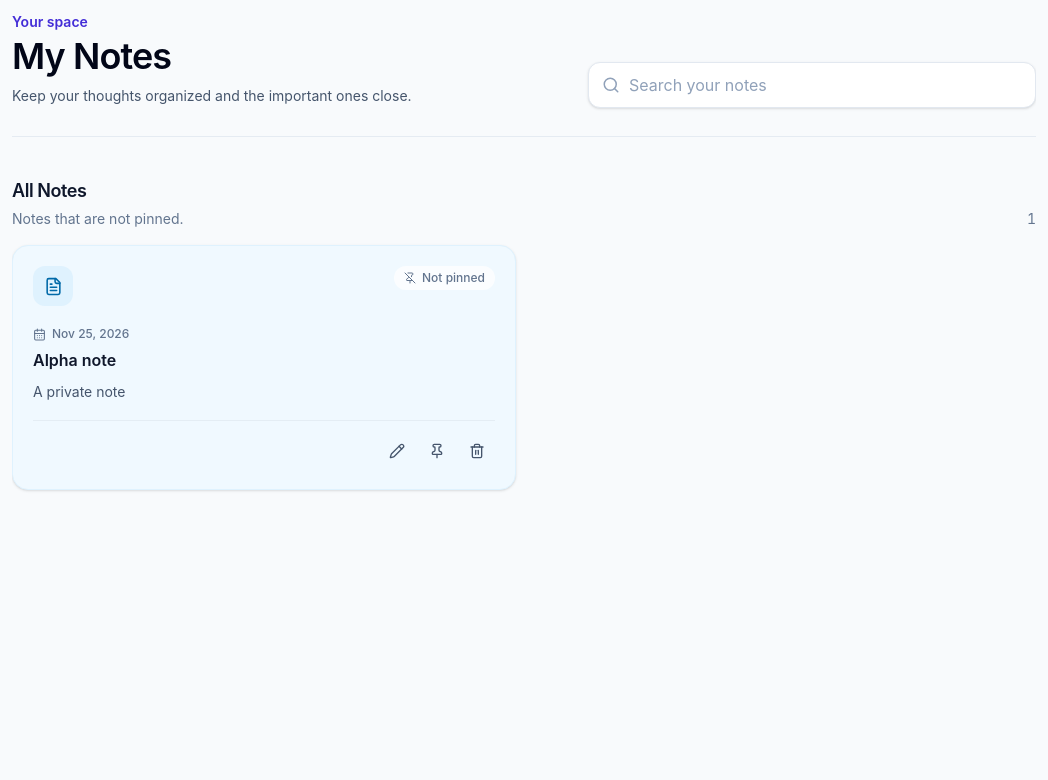
Test: Dashboard › ignores an older search response and escapes title pattern characters
The image size is (1048, 780).
Check: the heading "Alpha note" is shown, box [33,350,116,370]
Type "old%_\\" into the search field named "Search notes by title".
click(812, 85); type("old%_\\")  # box [588,62,1036,108]
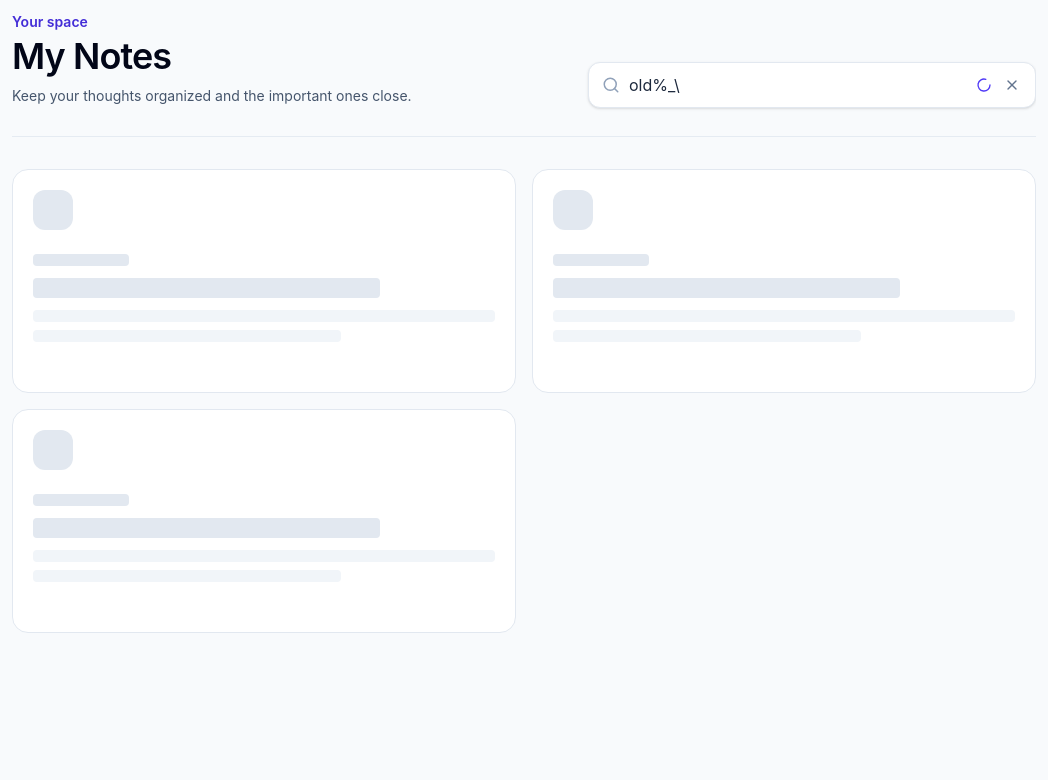
Replace the text in the search field named "Search notes by title" with "newer" at (812, 85), box [588,62,1036,108]
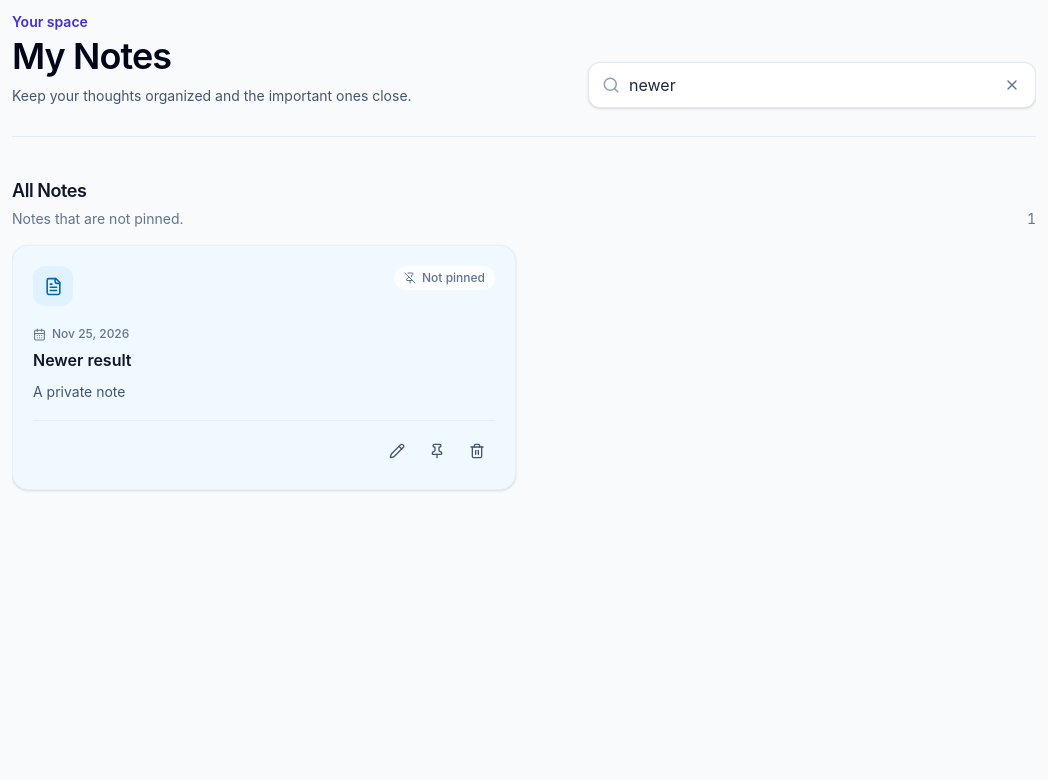
Check: the heading "Newer result" is shown, box [33,350,132,370]
